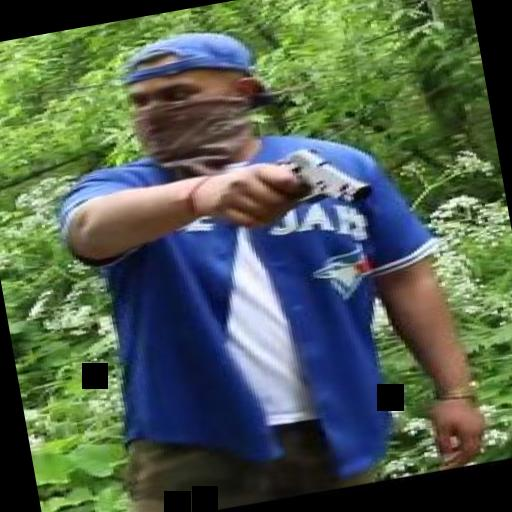Handgun: (238, 134, 374, 224)
